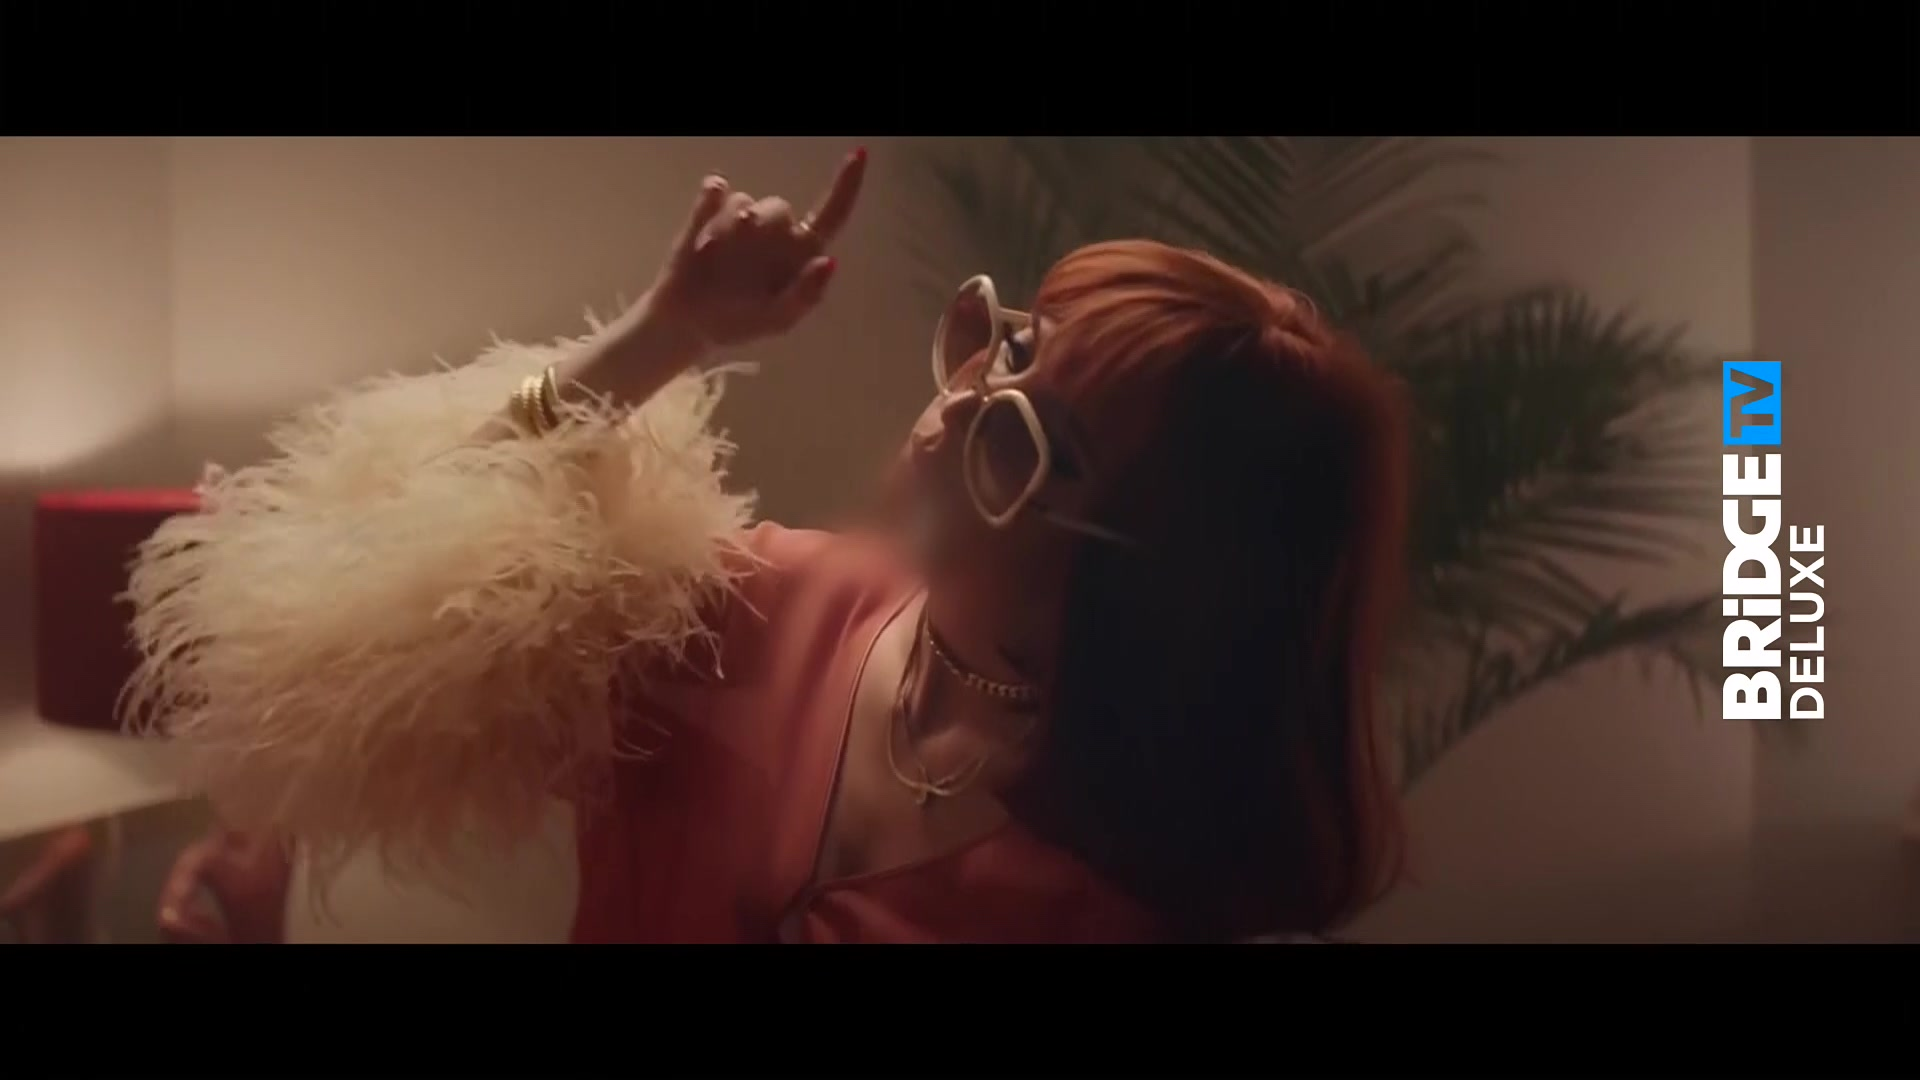Bridge_TV_Deluxe: (1716, 355, 1833, 731)
